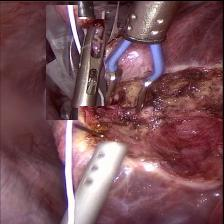Bipolar: (101, 32, 167, 114)
Grasper: (77, 18, 106, 105)
Irrigator: (70, 138, 133, 196)
Specimen Bag: (46, 4, 78, 119)
